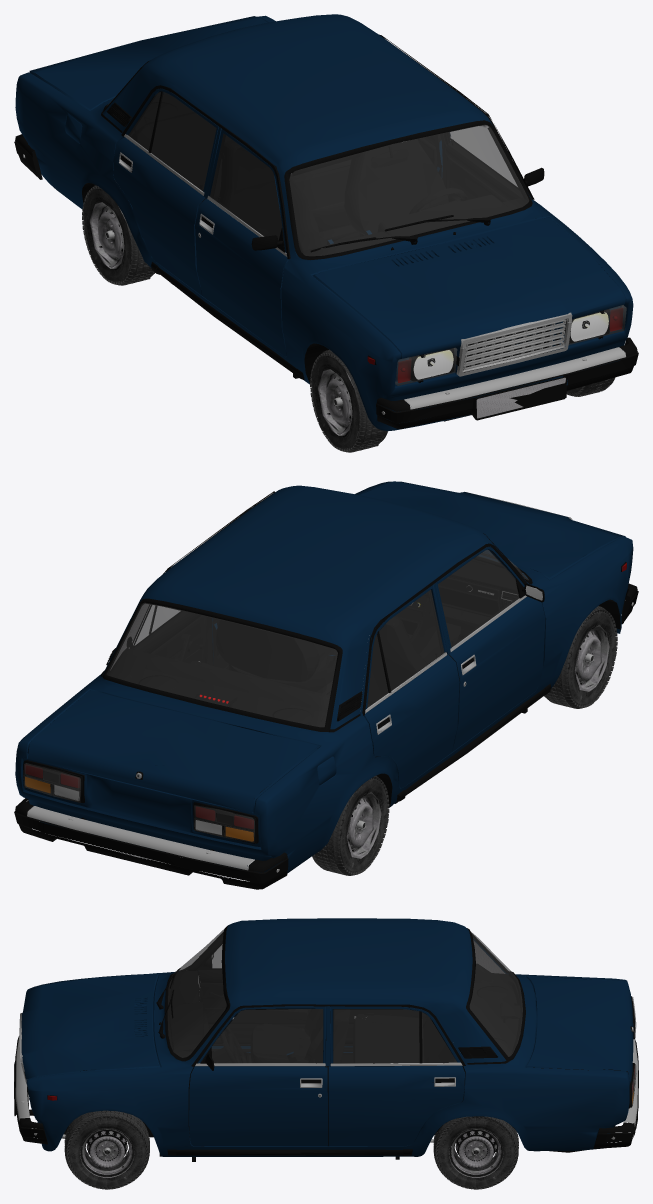
The model's file is zhiguli.glb.
3 renders of one model, top to bottom at view 1: azimuth 30°, elevation 25°; view 2: azimuth 150°, elevation 25°; view 3: azimuth 270°, elevation 25°, orthographic. The views are drawn at different scales.
Parts seen in each view (by area): view 1: bag_BaseColorCuzov_0, bag_plastik_0, base_steclo_0, bag_hrom_0, Wheel P P_Wheel_0, Wheel P Z_Wheel_0, base_Fari_0, base_obshivka_0, base_povorotniki_0; view 2: bag_BaseColorCuzov_0, bag_plastik_0, base_steclo_0, Wheel P Z_Wheel_0, Wheel P P_Wheel_0, bag_hrom_0, base_povorotniki_0; view 3: bag_BaseColorCuzov_0, bag_plastik_0, base_steclo_0, Wheel L P_Wheel_0, Wheel L Z_Wheel_0, bag_hrom_0, base_obshivka_0, Wheel L P_plastik_0, Wheel L Z_plastik_0.
Boxes of the visible parts, bbox=[...] form: bag_BaseColorCuzov_0: bbox=[15, 14, 633, 431]; bag_plastik_0: bbox=[14, 34, 638, 429]; base_steclo_0: bbox=[107, 92, 626, 385]; bag_hrom_0: bbox=[23, 134, 625, 414]; Wheel P P_Wheel_0: bbox=[310, 349, 387, 452]; Wheel P Z_Wheel_0: bbox=[82, 182, 154, 285]; base_Fari_0: bbox=[413, 312, 608, 379]; base_obshivka_0: bbox=[291, 125, 565, 418]; base_povorotniki_0: bbox=[367, 307, 623, 382]; bag_BaseColorCuzov_0: bbox=[15, 481, 633, 873]; bag_plastik_0: bbox=[14, 491, 638, 889]; base_steclo_0: bbox=[23, 550, 528, 842]; Wheel P Z_Wheel_0: bbox=[312, 775, 389, 875]; Wheel P P_Wheel_0: bbox=[544, 606, 617, 708]; bag_hrom_0: bbox=[27, 491, 633, 872]; base_povorotniki_0: bbox=[24, 562, 626, 828]; bag_BaseColorCuzov_0: bbox=[21, 918, 633, 1156]; bag_plastik_0: bbox=[14, 925, 638, 1161]; base_steclo_0: bbox=[30, 929, 636, 1107]; Wheel L P_Wheel_0: bbox=[64, 1110, 149, 1189]; Wheel L Z_Wheel_0: bbox=[433, 1116, 518, 1189]; bag_hrom_0: bbox=[15, 975, 637, 1142]; base_obshivka_0: bbox=[14, 940, 505, 1081]; Wheel L P_plastik_0: bbox=[87, 1130, 127, 1161]; Wheel L Z_plastik_0: bbox=[456, 1130, 496, 1161].
Bounding box in the file's own units: 1.8 × 1.39 × 4.13.
15 materials, 2 textured.
